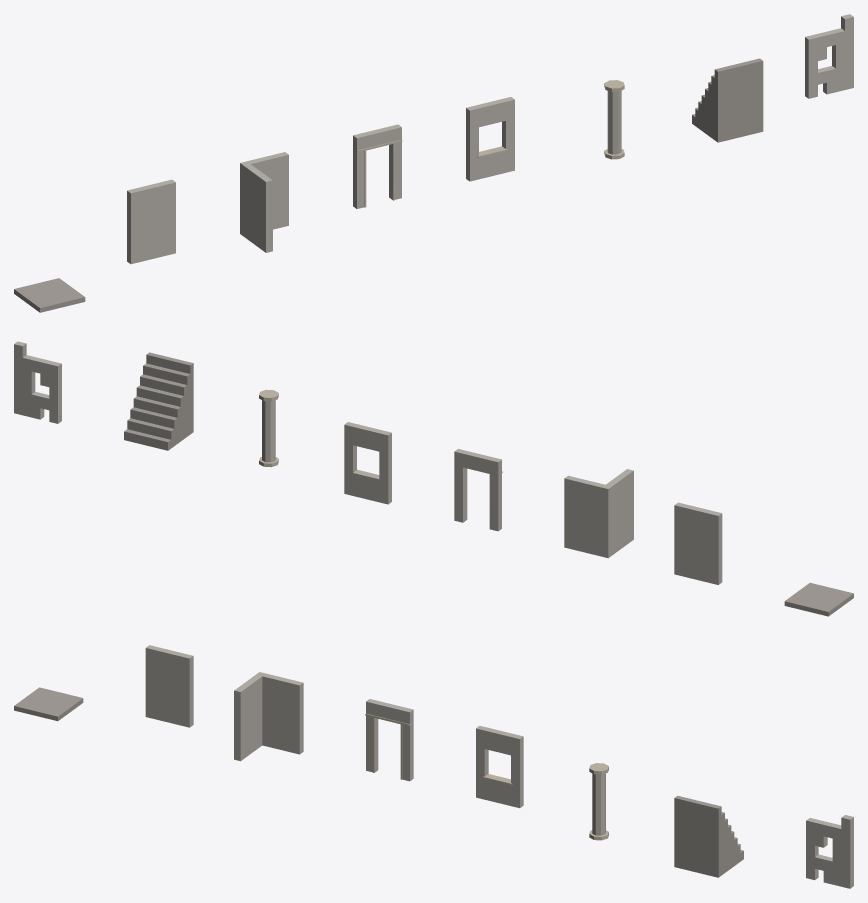
File: kit_overview.glb
The picture shows the model from 3 angles, top to bottom: view 1: azimuth 30°, elevation 25°; view 2: azimuth 150°, elevation 25°; view 3: azimuth 330°, elevation 25°; orthographic projection. The views are drawn at different scales.
Visible parts, largest first — view 1: stairs_Stairs, wall_corner_WallCorner, wall_straight_WallStraight, window_wall_WindowWall, wall_broken_WallBroken, doorway_Doorway, floor_tile_FloorTile, pillar_PillarShaft; view 2: stairs_Stairs, wall_corner_WallCorner, wall_straight_WallStraight, window_wall_WindowWall, wall_broken_WallBroken, doorway_Doorway, floor_tile_FloorTile, pillar_PillarShaft; view 3: wall_corner_WallCorner, stairs_Stairs, wall_straight_WallStraight, wall_broken_WallBroken, window_wall_WindowWall, doorway_Doorway, floor_tile_FloorTile, pillar_PillarShaft.
Part boxes in pixels (bbox=[...]): stairs_Stairs: bbox=[692, 58, 763, 142]; wall_corner_WallCorner: bbox=[240, 152, 288, 252]; wall_straight_WallStraight: bbox=[127, 179, 175, 264]; window_wall_WindowWall: bbox=[466, 97, 514, 181]; wall_broken_WallBroken: bbox=[805, 14, 853, 98]; doorway_Doorway: bbox=[353, 124, 401, 208]; floor_tile_FloorTile: bbox=[14, 278, 85, 312]; pillar_PillarShaft: bbox=[607, 91, 621, 154]; stairs_Stairs: bbox=[124, 352, 193, 450]; wall_corner_WallCorner: bbox=[564, 469, 633, 558]; wall_straight_WallStraight: bbox=[674, 502, 722, 584]; window_wall_WindowWall: bbox=[344, 422, 391, 504]; wall_broken_WallBroken: bbox=[14, 341, 61, 423]; doorway_Doorway: bbox=[454, 449, 501, 531]; floor_tile_FloorTile: bbox=[784, 582, 853, 616]; pillar_PillarShaft: bbox=[262, 400, 275, 462]; wall_corner_WallCorner: bbox=[234, 672, 303, 761]; stairs_Stairs: bbox=[674, 795, 743, 877]; wall_straight_WallStraight: bbox=[145, 645, 193, 727]; wall_broken_WallBroken: bbox=[806, 815, 853, 888]; window_wall_WindowWall: bbox=[476, 726, 523, 808]; doorway_Doorway: bbox=[366, 699, 413, 781]; floor_tile_FloorTile: bbox=[14, 687, 83, 721]; pillar_PillarShaft: bbox=[592, 773, 605, 835].
Bounding box in the file's own units: 37 × 3.2 × 2.
